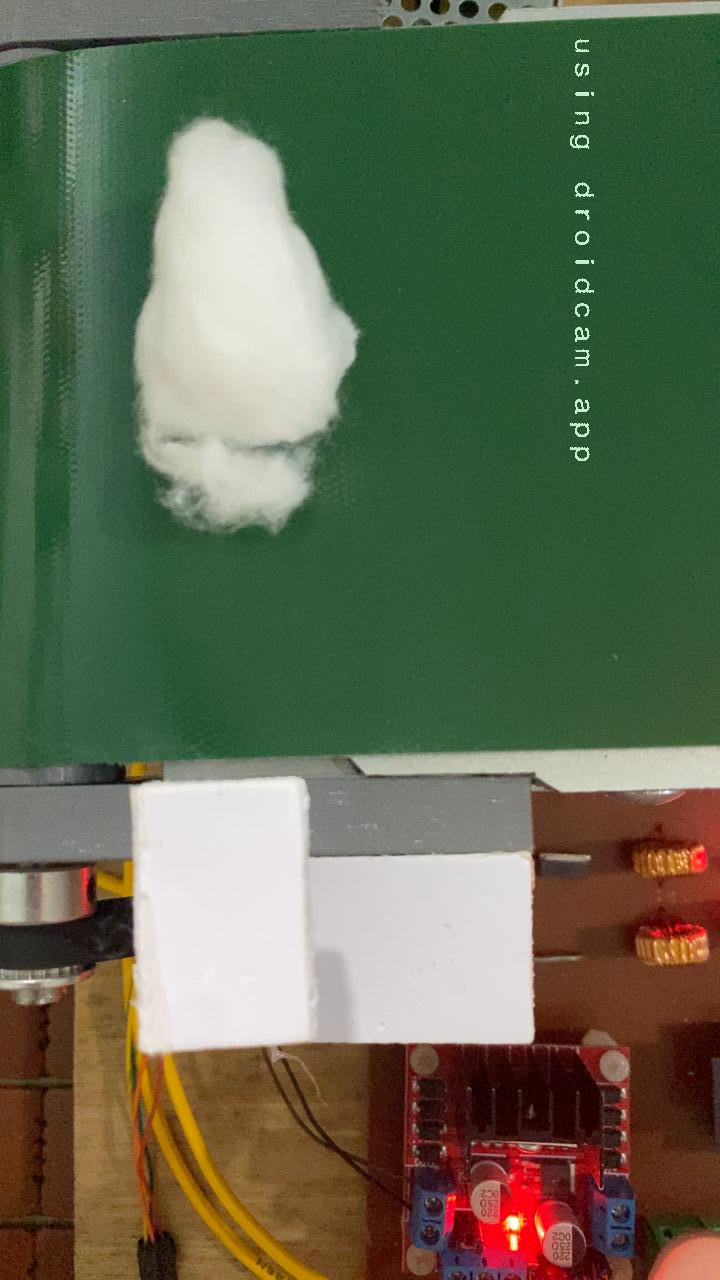cotton: (127, 112, 366, 532)
